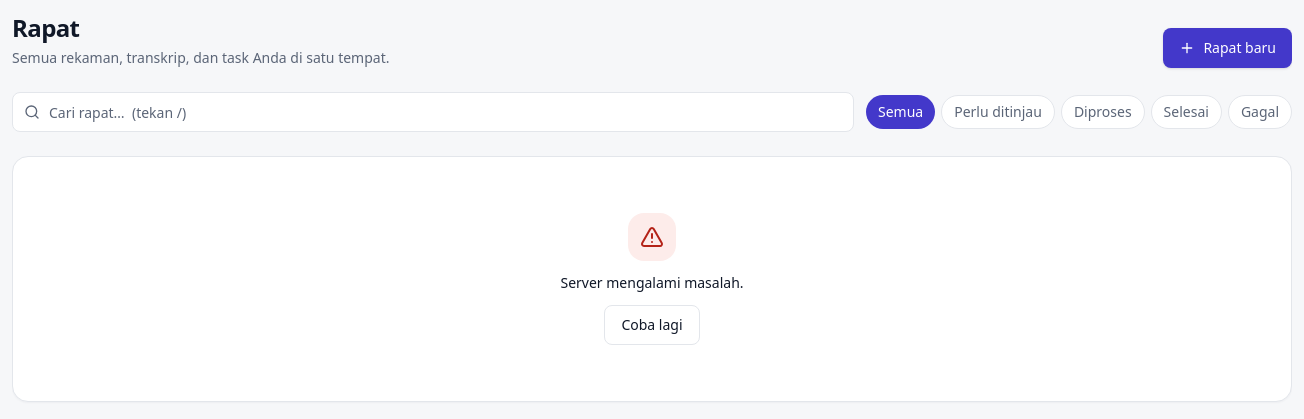
Test: MeetingsPage › shows the failure reason and a retry, not a blank page
This screenshot has width=1304, height=419.
Expected: the message shows "Server mengalami masalah", [560, 273, 744, 292]
Click the button "Coba lagi" at (652, 325), box [604, 305, 700, 345]
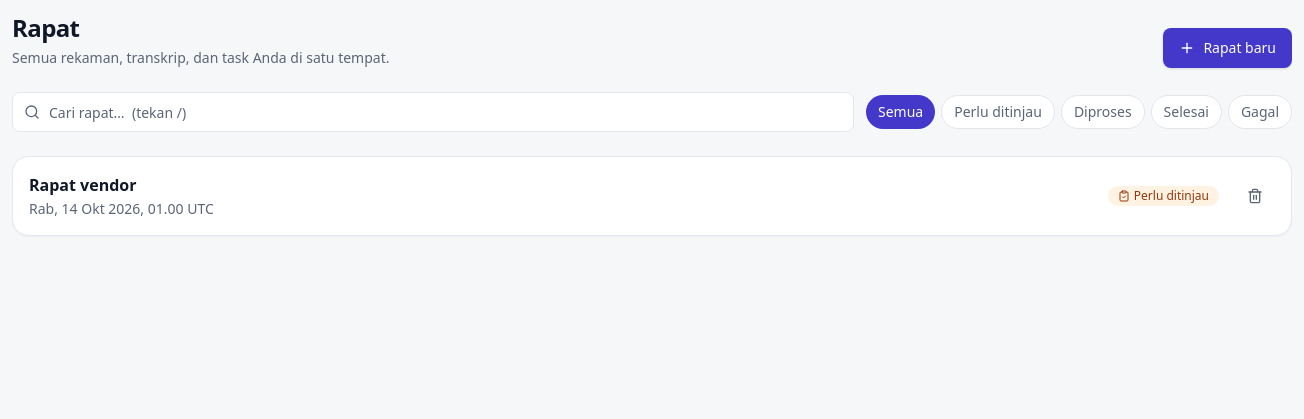
Expected: the text "Rapat vendor" is shown, [29, 174, 136, 196]
